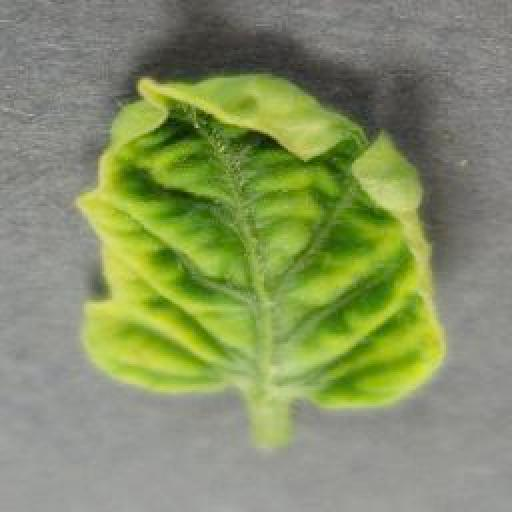disease_tomato: (74, 74, 447, 412)
